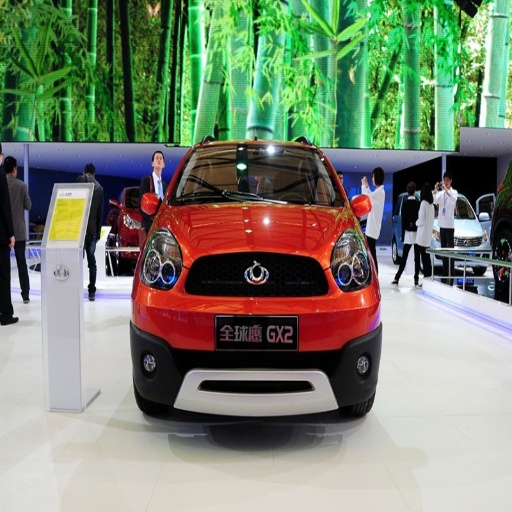front_bumper: (134, 254, 383, 416)
front_right_light: (140, 232, 181, 288)
hood: (164, 201, 355, 265)
